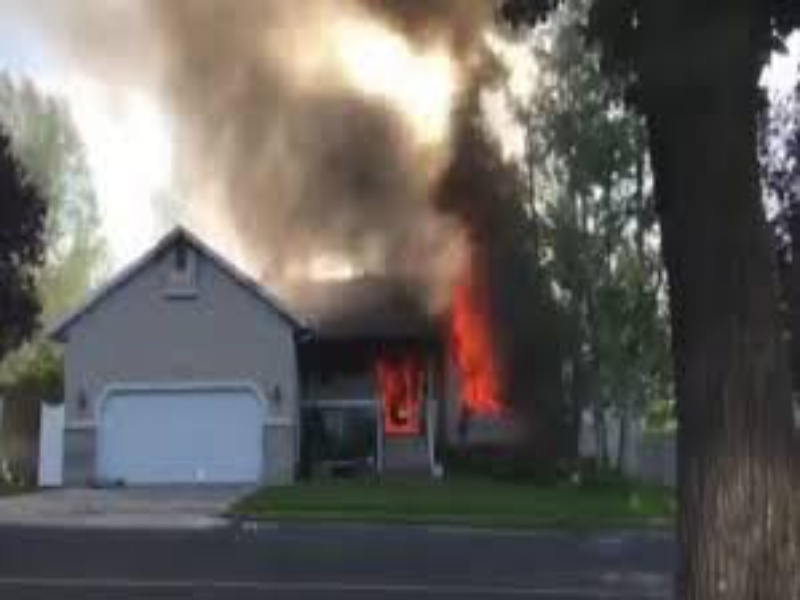fire: (437, 260, 516, 407), (375, 350, 430, 436)
